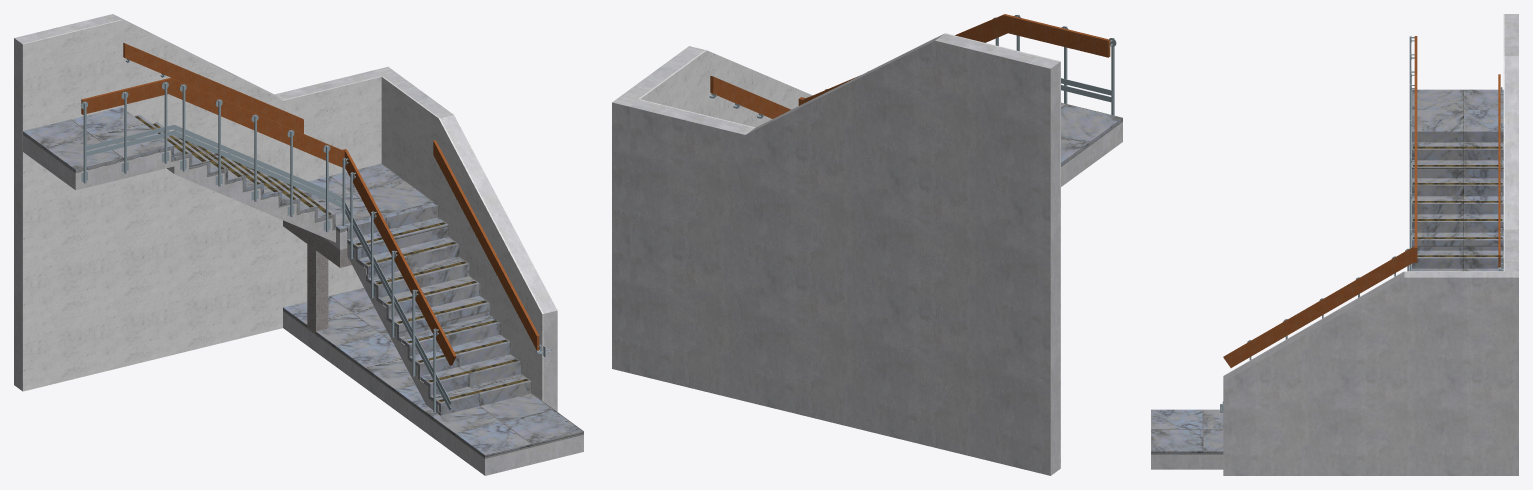
Rendered from dogleg-stair.glb.
3 views of the same model, side by side, from view 1: azimuth 30°, elevation 25°; view 2: azimuth 150°, elevation 25°; view 3: azimuth 270°, elevation 25° (orthographic). The views are drawn at different scales.
Parts seen in each view (by area): view 1: 墙体, 水磨石面层, 临空栏杆与板式木扶手, 梯段平台及底层楼板, 靠墙扶手及预埋件, 陶瓷锦砖防滑条, 平台支承梁柱, 结合找平层; view 2: 墙体, 临空栏杆与板式木扶手, 水磨石面层, 靠墙扶手及预埋件, 梯段平台及底层楼板; view 3: 墙体, 水磨石面层, 临空栏杆与板式木扶手, 陶瓷锦砖防滑条, 梯段平台及底层楼板, 靠墙扶手及预埋件.
Boxes of the visible parts, bbox=[...] form: 墙体: bbox=[14, 14, 557, 411]; 水磨石面层: bbox=[23, 107, 583, 457]; 临空栏杆与板式木扶手: bbox=[81, 77, 456, 412]; 梯段平台及底层楼板: bbox=[23, 135, 583, 475]; 靠墙扶手及预埋件: bbox=[123, 42, 551, 357]; 陶瓷锦砖防滑条: bbox=[135, 116, 528, 401]; 平台支承梁柱: bbox=[283, 220, 351, 334]; 结合找平层: bbox=[23, 133, 583, 458]; 墙体: bbox=[612, 33, 1060, 475]; 临空栏杆与板式木扶手: bbox=[798, 14, 1116, 115]; 水磨石面层: bbox=[1061, 102, 1122, 165]; 靠墙扶手及预埋件: bbox=[709, 76, 790, 118]; 梯段平台及底层楼板: bbox=[1061, 122, 1122, 186]; 墙体: bbox=[1223, 14, 1518, 475]; 水磨石面层: bbox=[1151, 89, 1503, 453]; 临空栏杆与板式木扶手: bbox=[1223, 36, 1417, 367]; 陶瓷锦砖防滑条: bbox=[1413, 146, 1502, 256]; 梯段平台及底层楼板: bbox=[1151, 454, 1223, 469]; 靠墙扶手及预埋件: bbox=[1220, 74, 1503, 412].
Bounding box in the file's own units: 5.42 × 4.81 × 5.29.
Materials: 11 (9 with a texture image).
